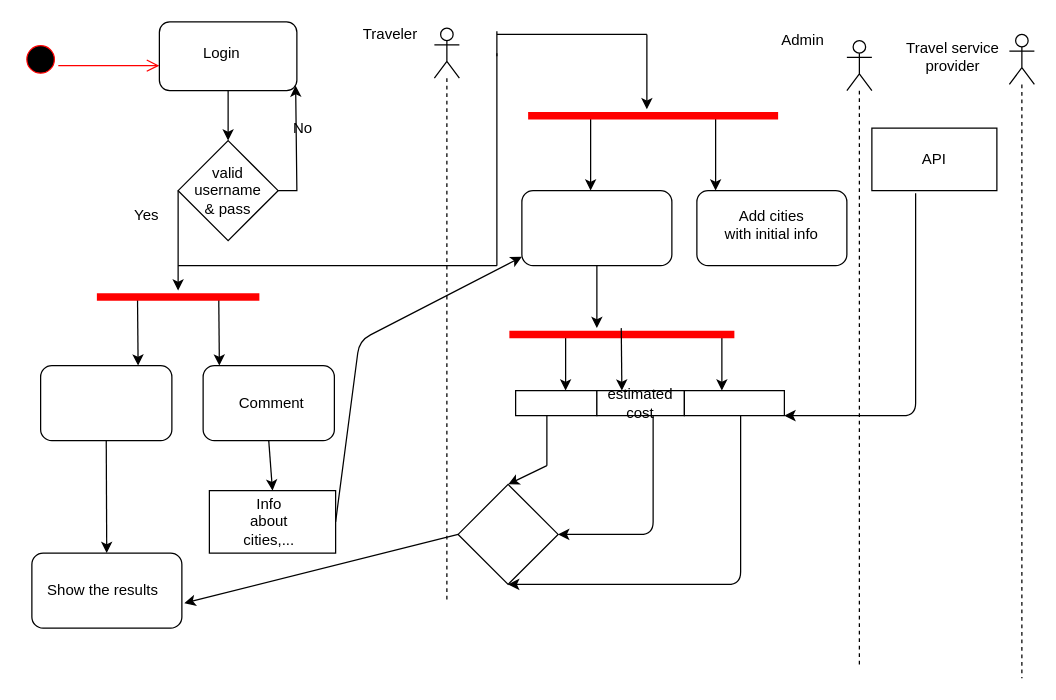
The diagram is 1056 pixels wide and 700 high, and some of its shapes have lost their labels. The box of each missing label's shape, as (x1, y1, x2, y2) in pixels:
Analysing the data: (521, 189, 672, 266)
destination: (514, 389, 597, 416)
Search: (39, 364, 172, 441)
travel services: (683, 389, 784, 416)
